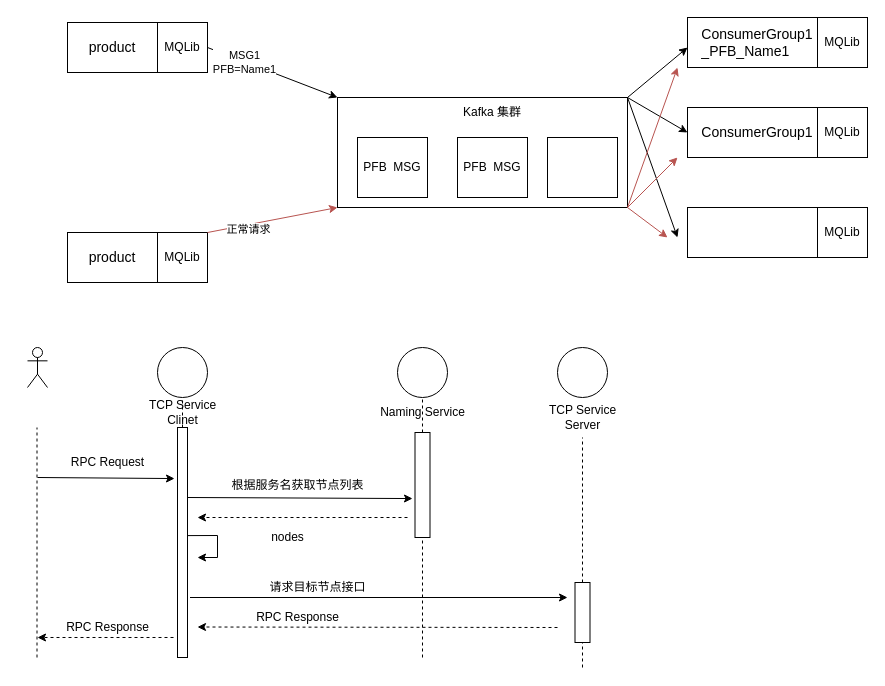
Image size: 885x686. Some labels were removed from this diagram. Each missing label, with the box of its shape:
ConsumerGroup2: (686, 206, 818, 258)
HTTP Service: (26, 346, 48, 388)
正常消息: (546, 136, 618, 198)
